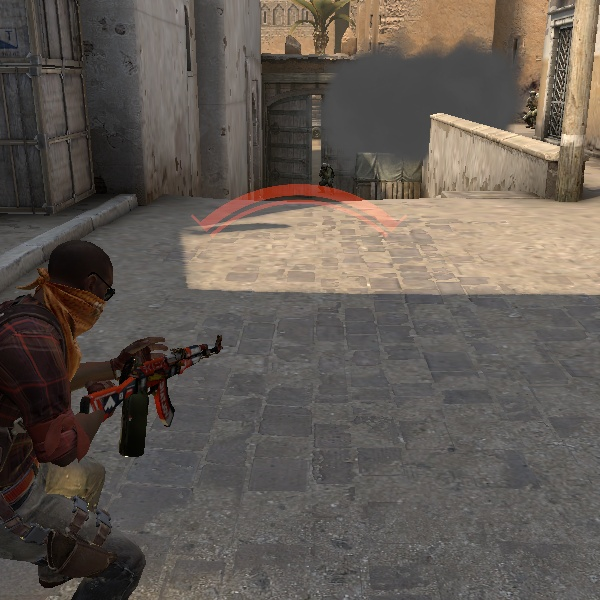t_body: (0, 212, 211, 600)
t_head: (11, 220, 136, 342)
